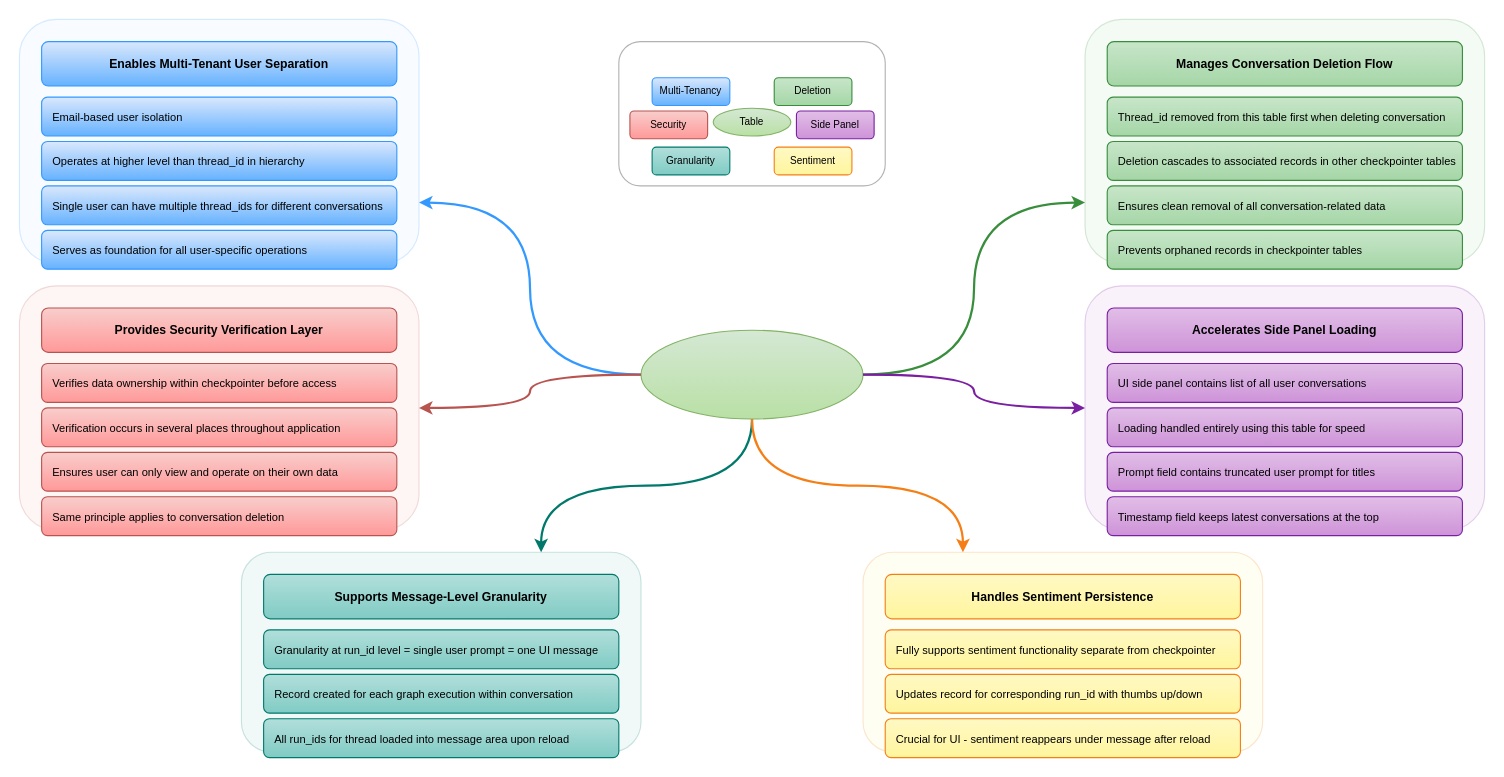
The diagram is 1504 pixels wide and 777 high, and some of its shapes have lost their labels. The shapes that lost their labels are listed below. From the top down, each one's box as (x1, y1, x2, y2) in pixels, then its label:
(618, 41, 885, 186): Purpose Categories
(640, 329, 863, 419): users_threads_runs
